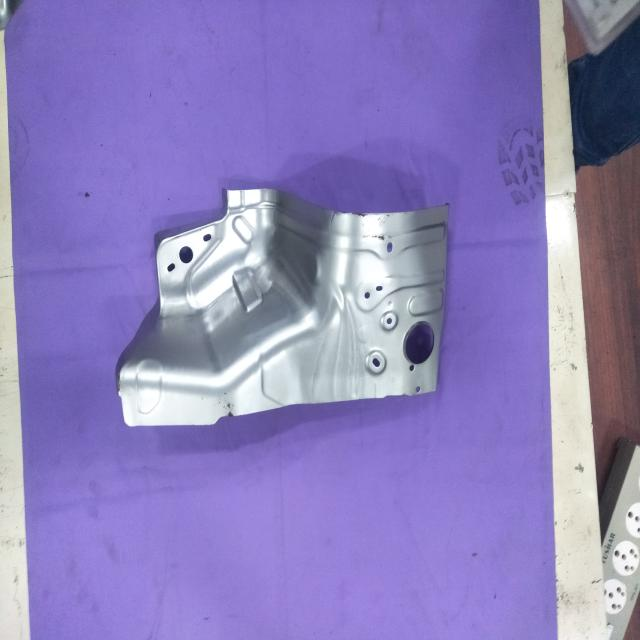Defect: (324, 206, 338, 233)
rust: (200, 384, 249, 428), (338, 207, 397, 222), (358, 231, 391, 247)
